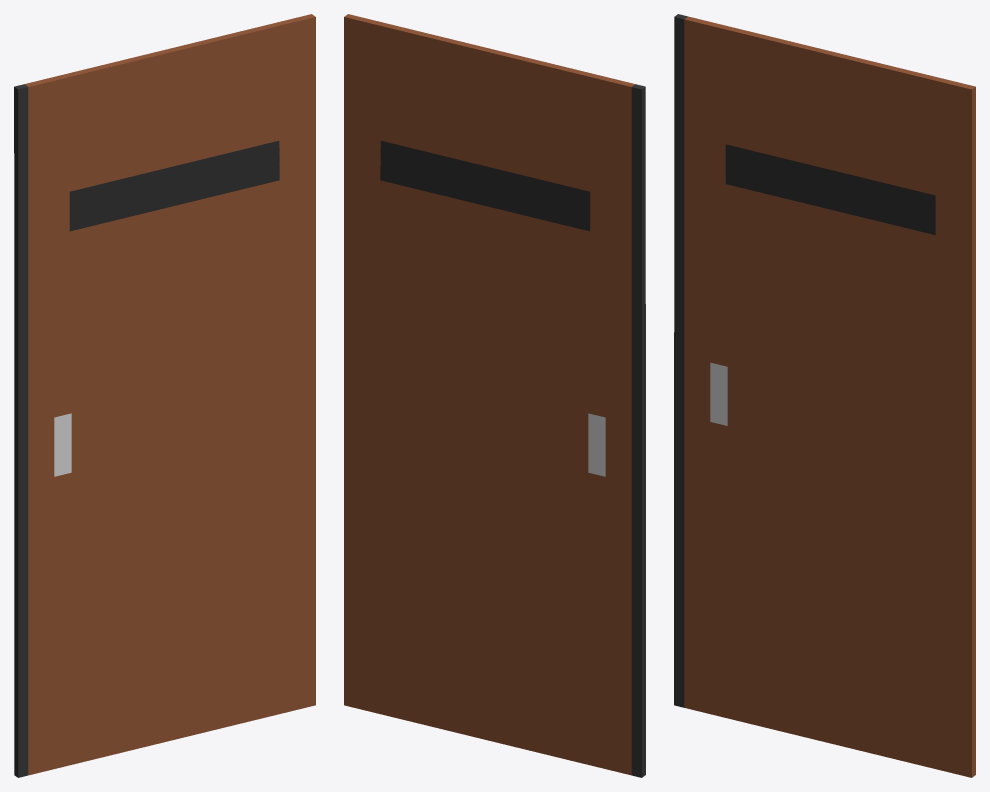
The model's file is Door002.fbx.
The picture shows the model from 3 angles, left to right: view 1: azimuth 30°, elevation 25°; view 2: azimuth 150°, elevation 25°; view 3: azimuth 330°, elevation 25°; orthographic projection.
Parts seen in each view (by area): view 1: door1:Door001; view 2: door1:Door001; view 3: door1:Door001.
Part boxes in pixels (box(x1,y1,x2,y2)): door1:Door001: box(14, 14, 315, 777); door1:Door001: box(344, 14, 645, 777); door1:Door001: box(674, 14, 975, 777).
Bounding box in the file's own units: 117 × 259 × 2.75.
